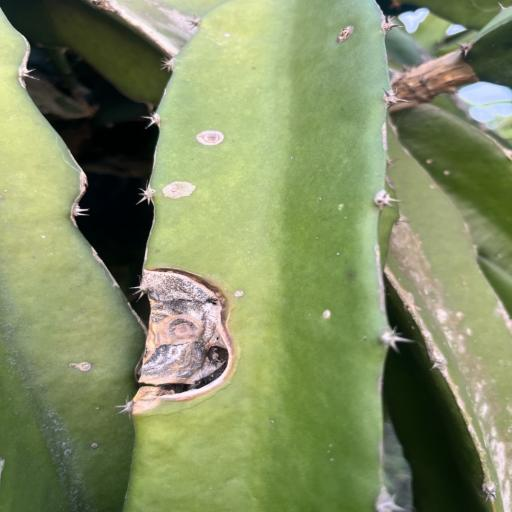stemcanker: (319, 299, 341, 329), (63, 357, 96, 375), (333, 200, 350, 220), (87, 440, 103, 456), (86, 440, 103, 452), (322, 307, 336, 321), (234, 288, 249, 300), (62, 447, 75, 458), (334, 202, 347, 212), (222, 30, 233, 40)
